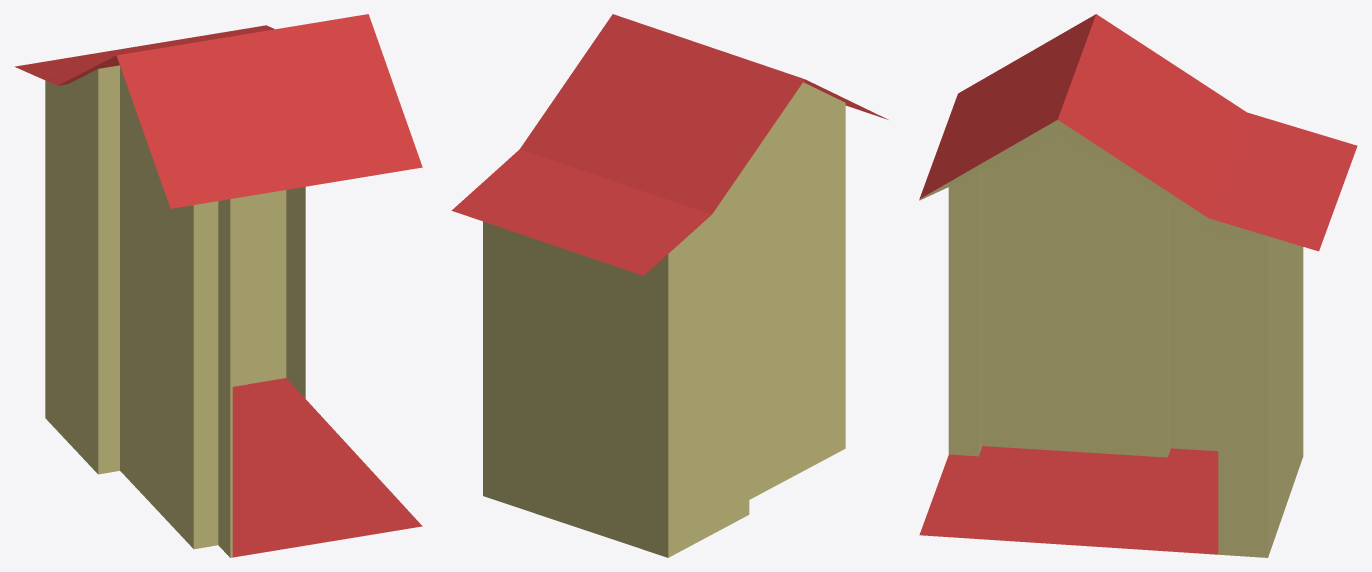
3 views of the same model, side by side, from view 1: azimuth 30°, elevation 25°; view 2: azimuth 150°, elevation 25°; view 3: azimuth 270°, elevation 25° (orthographic). The views are drawn at different scales.
Parts seen in each view (by area): view 1: group_5, group_3, group_6, group_4; view 2: group_5, group_3, group_4; view 3: group_5, group_3, group_6, group_4.
Boxes of the visible parts, <box> form: group_5: <box>45,65,305,557</box>; group_3: <box>46,14,422,208</box>; group_6: <box>232,378,422,557</box>; group_4: <box>15,25,274,85</box>; group_5: <box>483,82,845,557</box>; group_3: <box>456,14,804,243</box>; group_4: <box>452,70,888,275</box>; group_5: <box>919,120,1303,557</box>; group_3: <box>919,14,1302,235</box>; group_6: <box>919,446,1218,554</box>; group_4: <box>1091,14,1357,251</box>.
Bounding box in the file's own units: 7.72 × 10.85 × 11.59.
